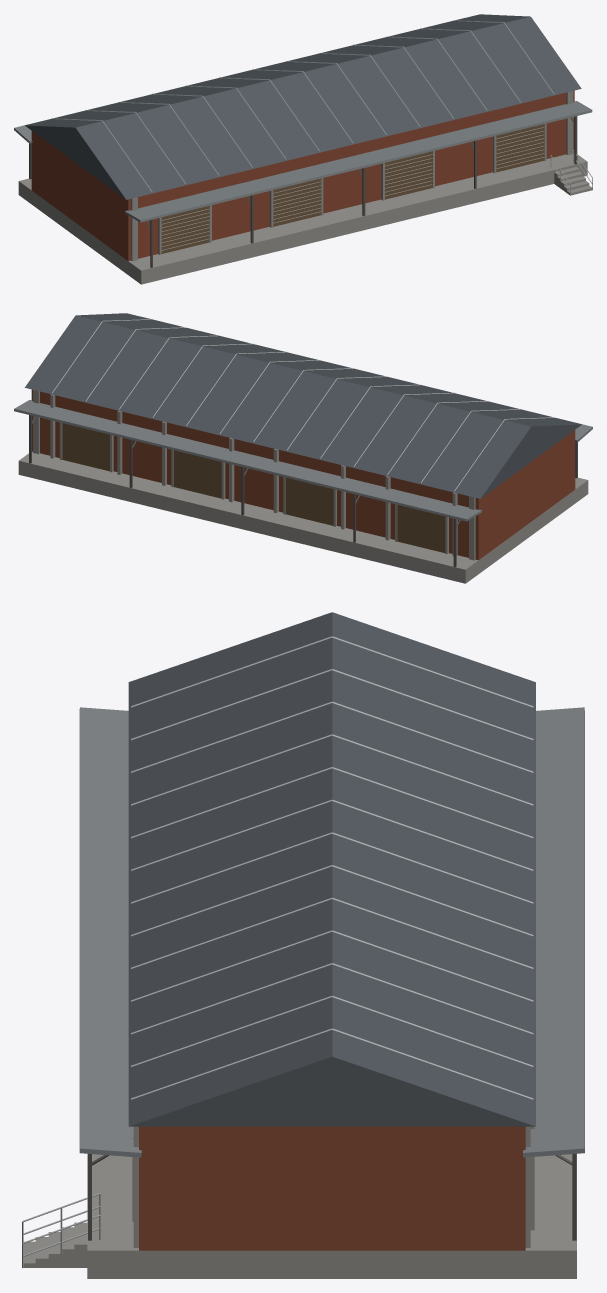
Rendered from Scenery_FreightShed.fbx.
3 views of the same model, one above another, from view 1: azimuth 30°, elevation 25°; view 2: azimuth 150°, elevation 25°; view 3: azimuth 270°, elevation 25° (orthographic). The views are drawn at different scales.
Visible parts, largest first — view 1: Scenery_FreightShed_LOD0; view 2: Scenery_FreightShed_LOD0; view 3: Scenery_FreightShed_LOD0.
Part boxes in pixels (x1=…): Scenery_FreightShed_LOD0: x1=14, y1=14, x2=592, y2=284; Scenery_FreightShed_LOD0: x1=14, y1=313, x2=592, y2=583; Scenery_FreightShed_LOD0: x1=22, y1=612, x2=584, y2=1278.
Size of what is drawn, in the model's own units: 40.8 by 9.79 by 21.84.
